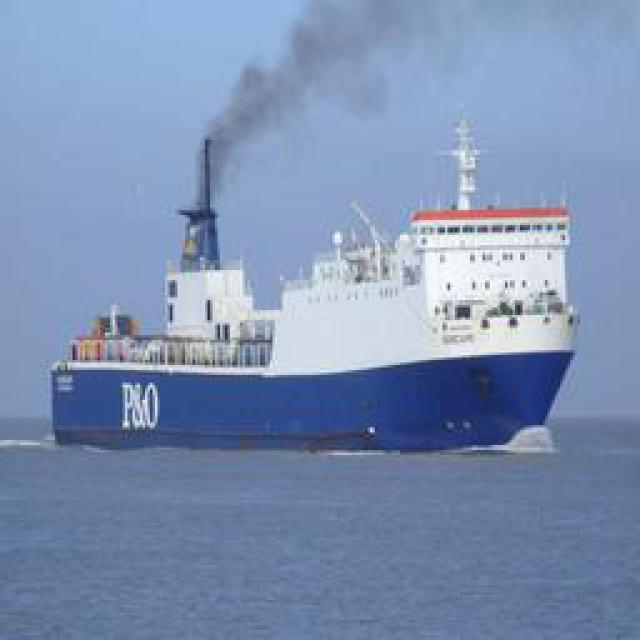Ship: (27, 85, 580, 450)
